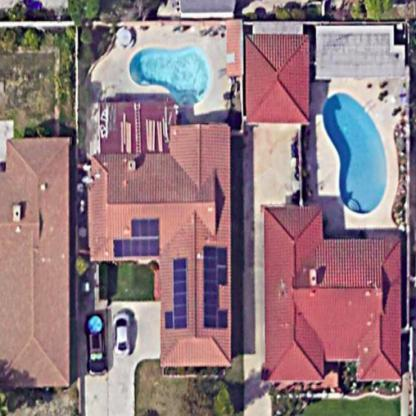car: (79, 312, 111, 385), (110, 305, 141, 362)
solar_panel: (192, 237, 235, 341), (110, 207, 168, 261), (160, 249, 191, 337)
swimming_pool: (313, 82, 395, 219), (123, 33, 223, 115)
